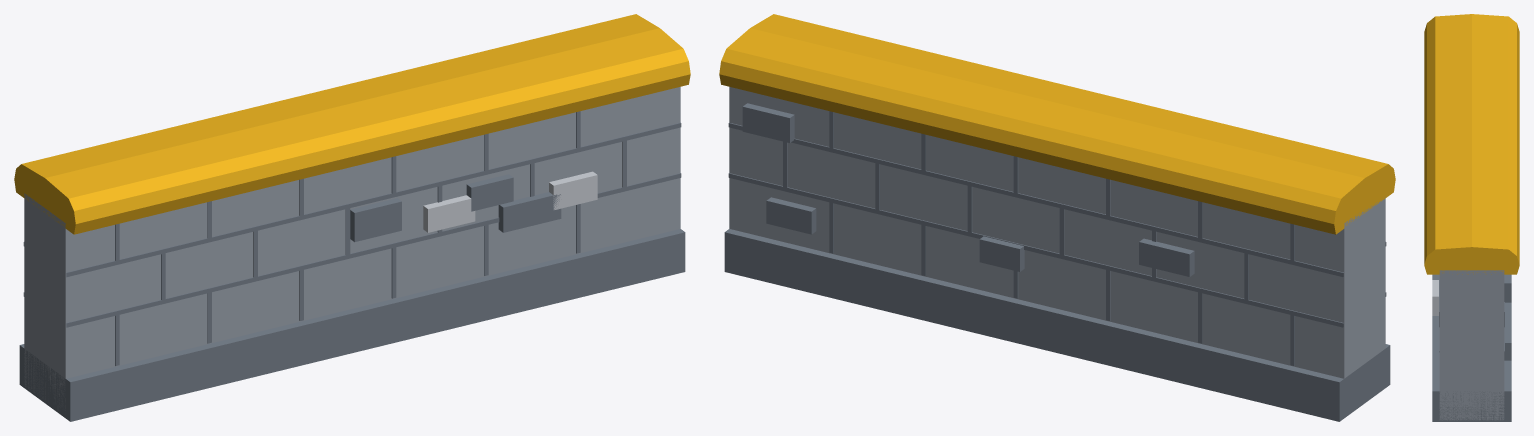
Rendered from castelo_mureta.glb.
3 renders of one model, left to right at view 1: azimuth 30°, elevation 25°; view 2: azimuth 150°, elevation 25°; view 3: azimuth 270°, elevation 25°, orthographic. The views are drawn at different scales.
Parts seen in each view (by area): view 1: castelo_mureta; view 2: castelo_mureta; view 3: castelo_mureta.
Part boxes in pixels (<box>): castelo_mureta: <box>14,14,690,421</box>; castelo_mureta: <box>719,14,1395,421</box>; castelo_mureta: <box>1424,14,1519,421</box>.
Bounding box in the file's own units: 6 × 2.1 × 1.04.
1 material, 1 textured.
